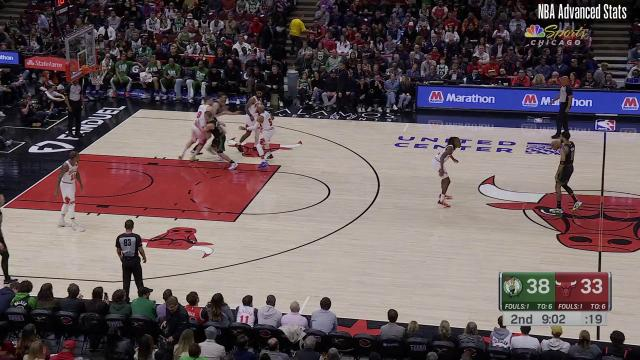3_dx: (127, 114, 137, 122)
b_dx: (138, 103, 146, 113)
free_adx: (274, 159, 286, 171)
free_asx: (228, 216, 240, 230)
free_bsx: (0, 201, 8, 213)
mid_dx: (400, 118, 416, 128)
mid_sx: (295, 310, 305, 318)
referee: (115, 220, 158, 296), (62, 75, 86, 137), (548, 75, 572, 137)
team: (550, 130, 582, 214), (194, 92, 232, 156), (204, 113, 236, 169), (0, 194, 18, 284)
team1: (51, 150, 88, 234), (178, 94, 212, 160), (434, 136, 462, 210), (244, 107, 274, 170), (238, 88, 262, 152)
timer: (540, 310, 568, 326)
